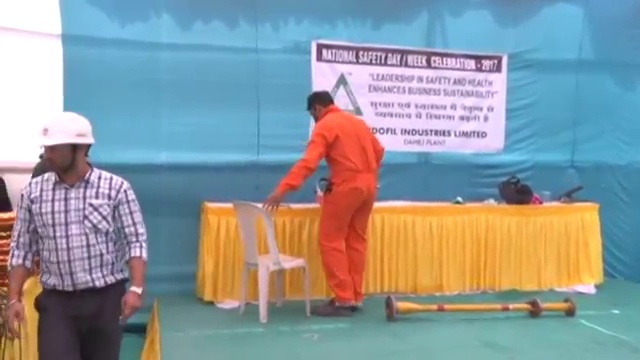helmet: (36, 110, 96, 147)
helmet_off: (304, 89, 335, 126)
helmet_on: (36, 111, 94, 179)
person: (1, 108, 154, 360), (271, 87, 388, 320)
